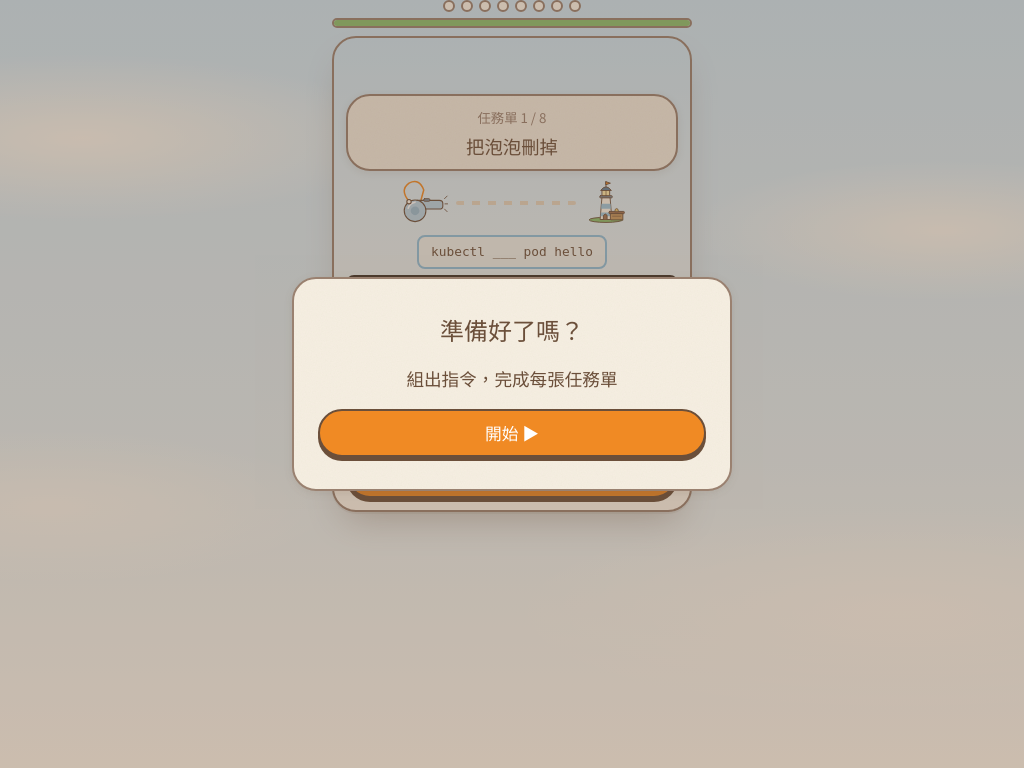
Day05Game › 動詞選錯不會蓋章，指令預覽也不留下錯的動詞
The image size is (1024, 768).
Click the button with test id "shell-start": point(512, 433) x1=318 y1=409 x2=706 y2=457
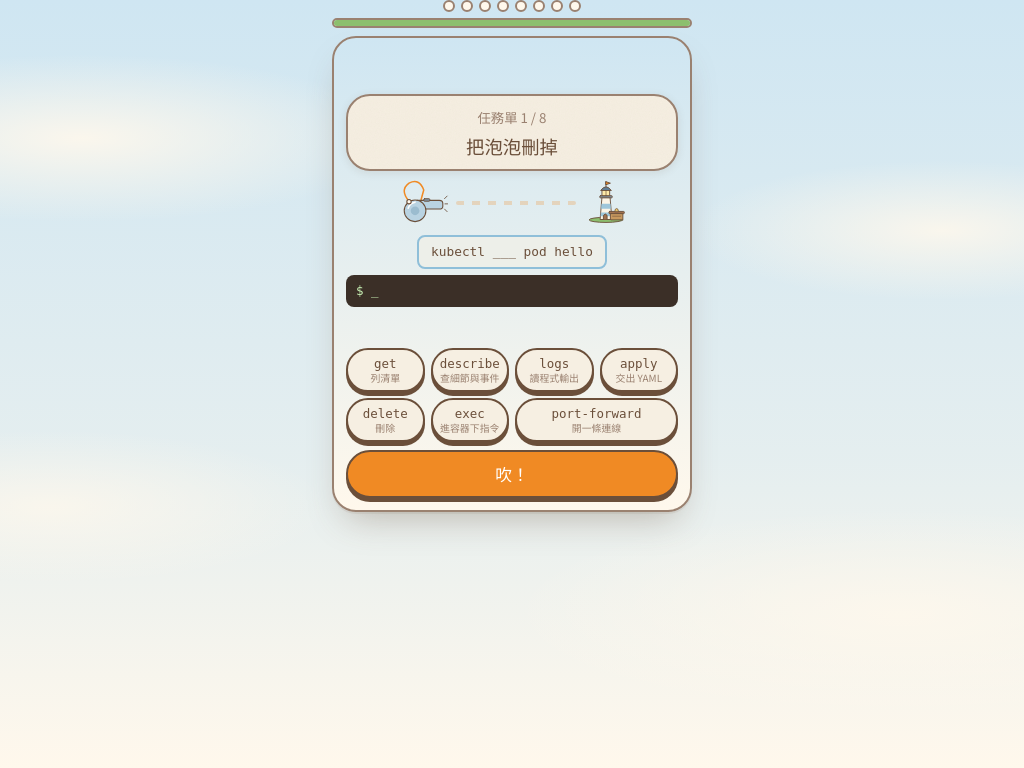
Click the button "logs 讀程式輸出": point(554, 370) x1=515 y1=348 x2=594 y2=392
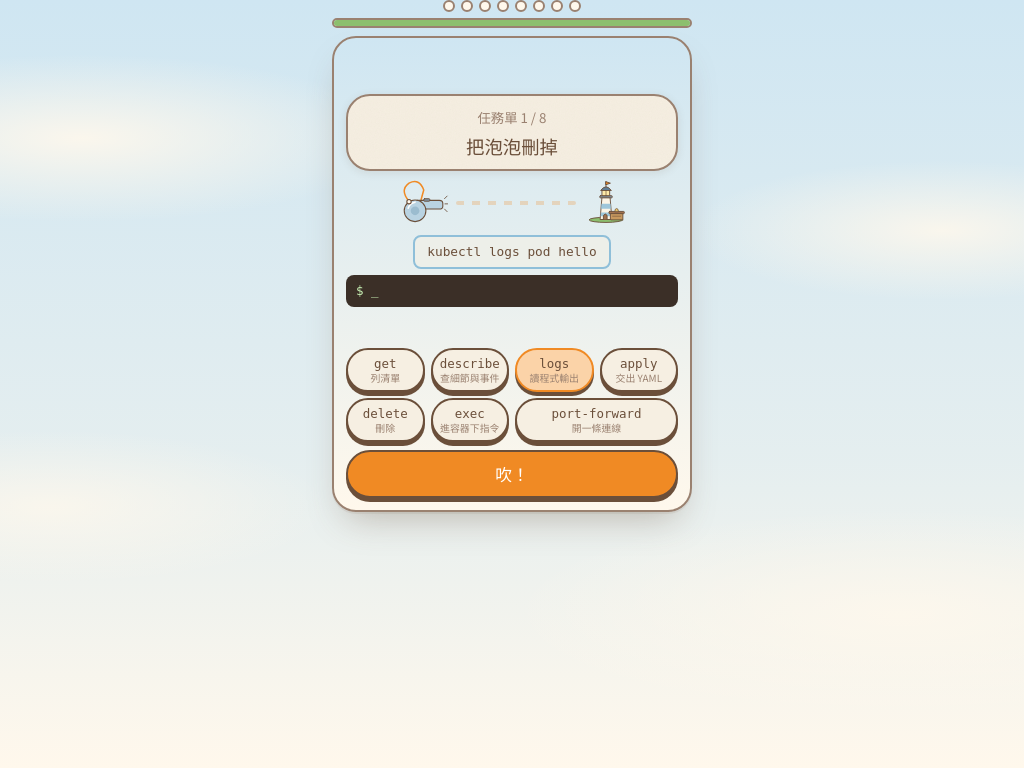
Click the button with test id "blow": point(512, 474) x1=346 y1=450 x2=678 y2=498
Wait 900 ms
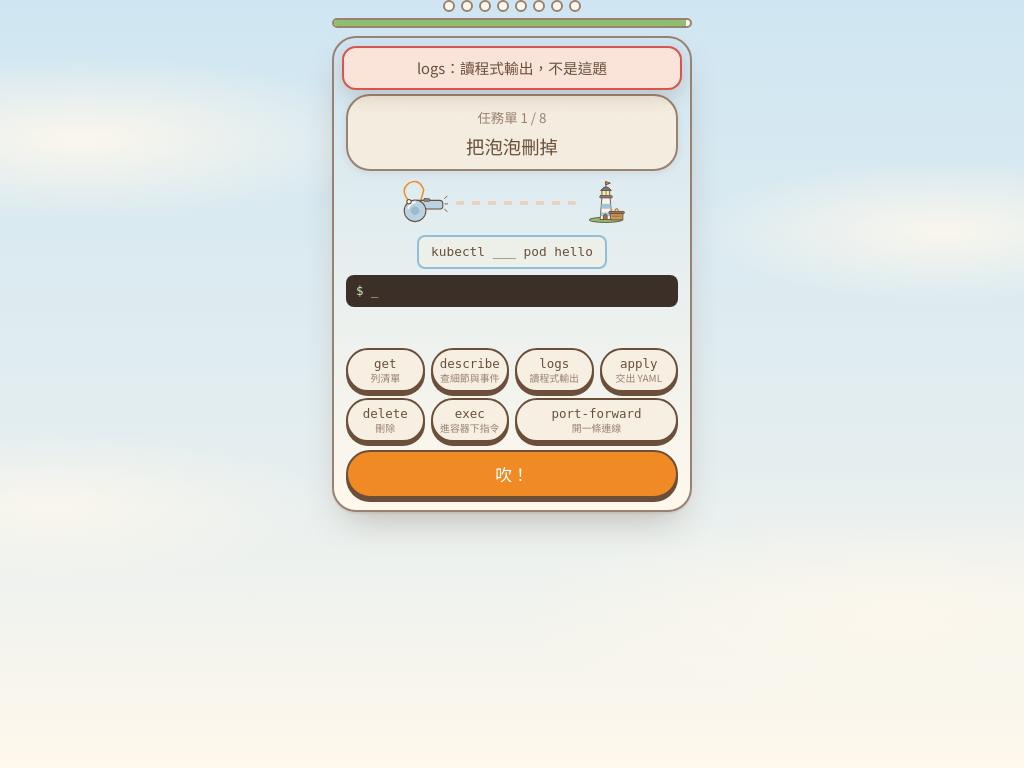
Result: the button with class "cmd" shows "kubectl ___" at x1=417 y1=235 x2=607 y2=269
Result: the element with class "cmd" no longer shows "logs"
